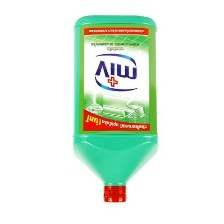cleaning_solution: (70, 10, 160, 204)
